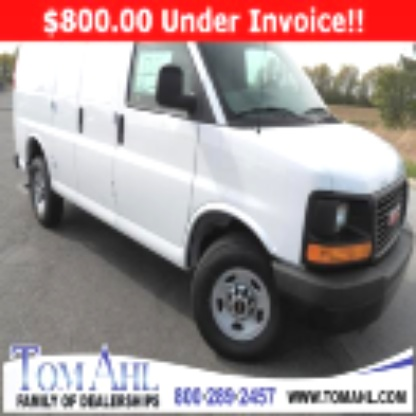Vehicle: (10, 39, 415, 364)
